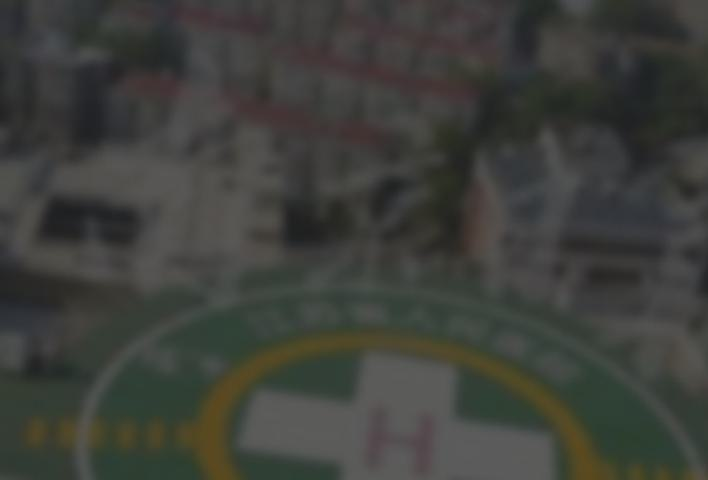Apron: (185, 309, 622, 480)
